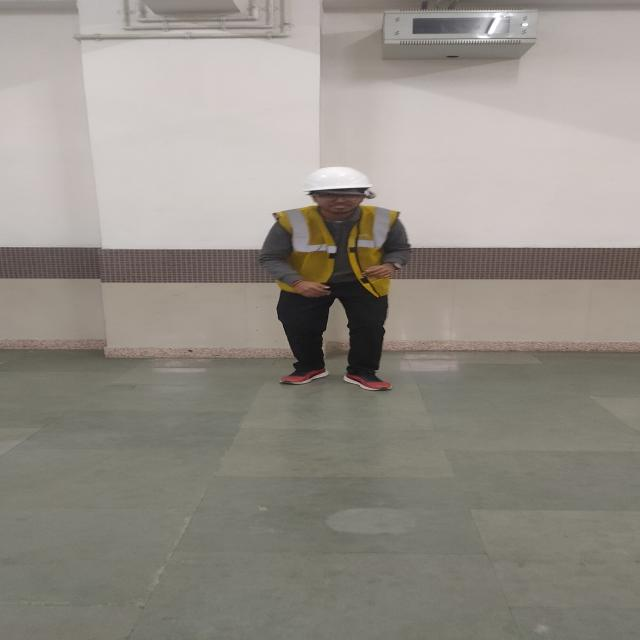safe: (260, 166, 412, 391)
